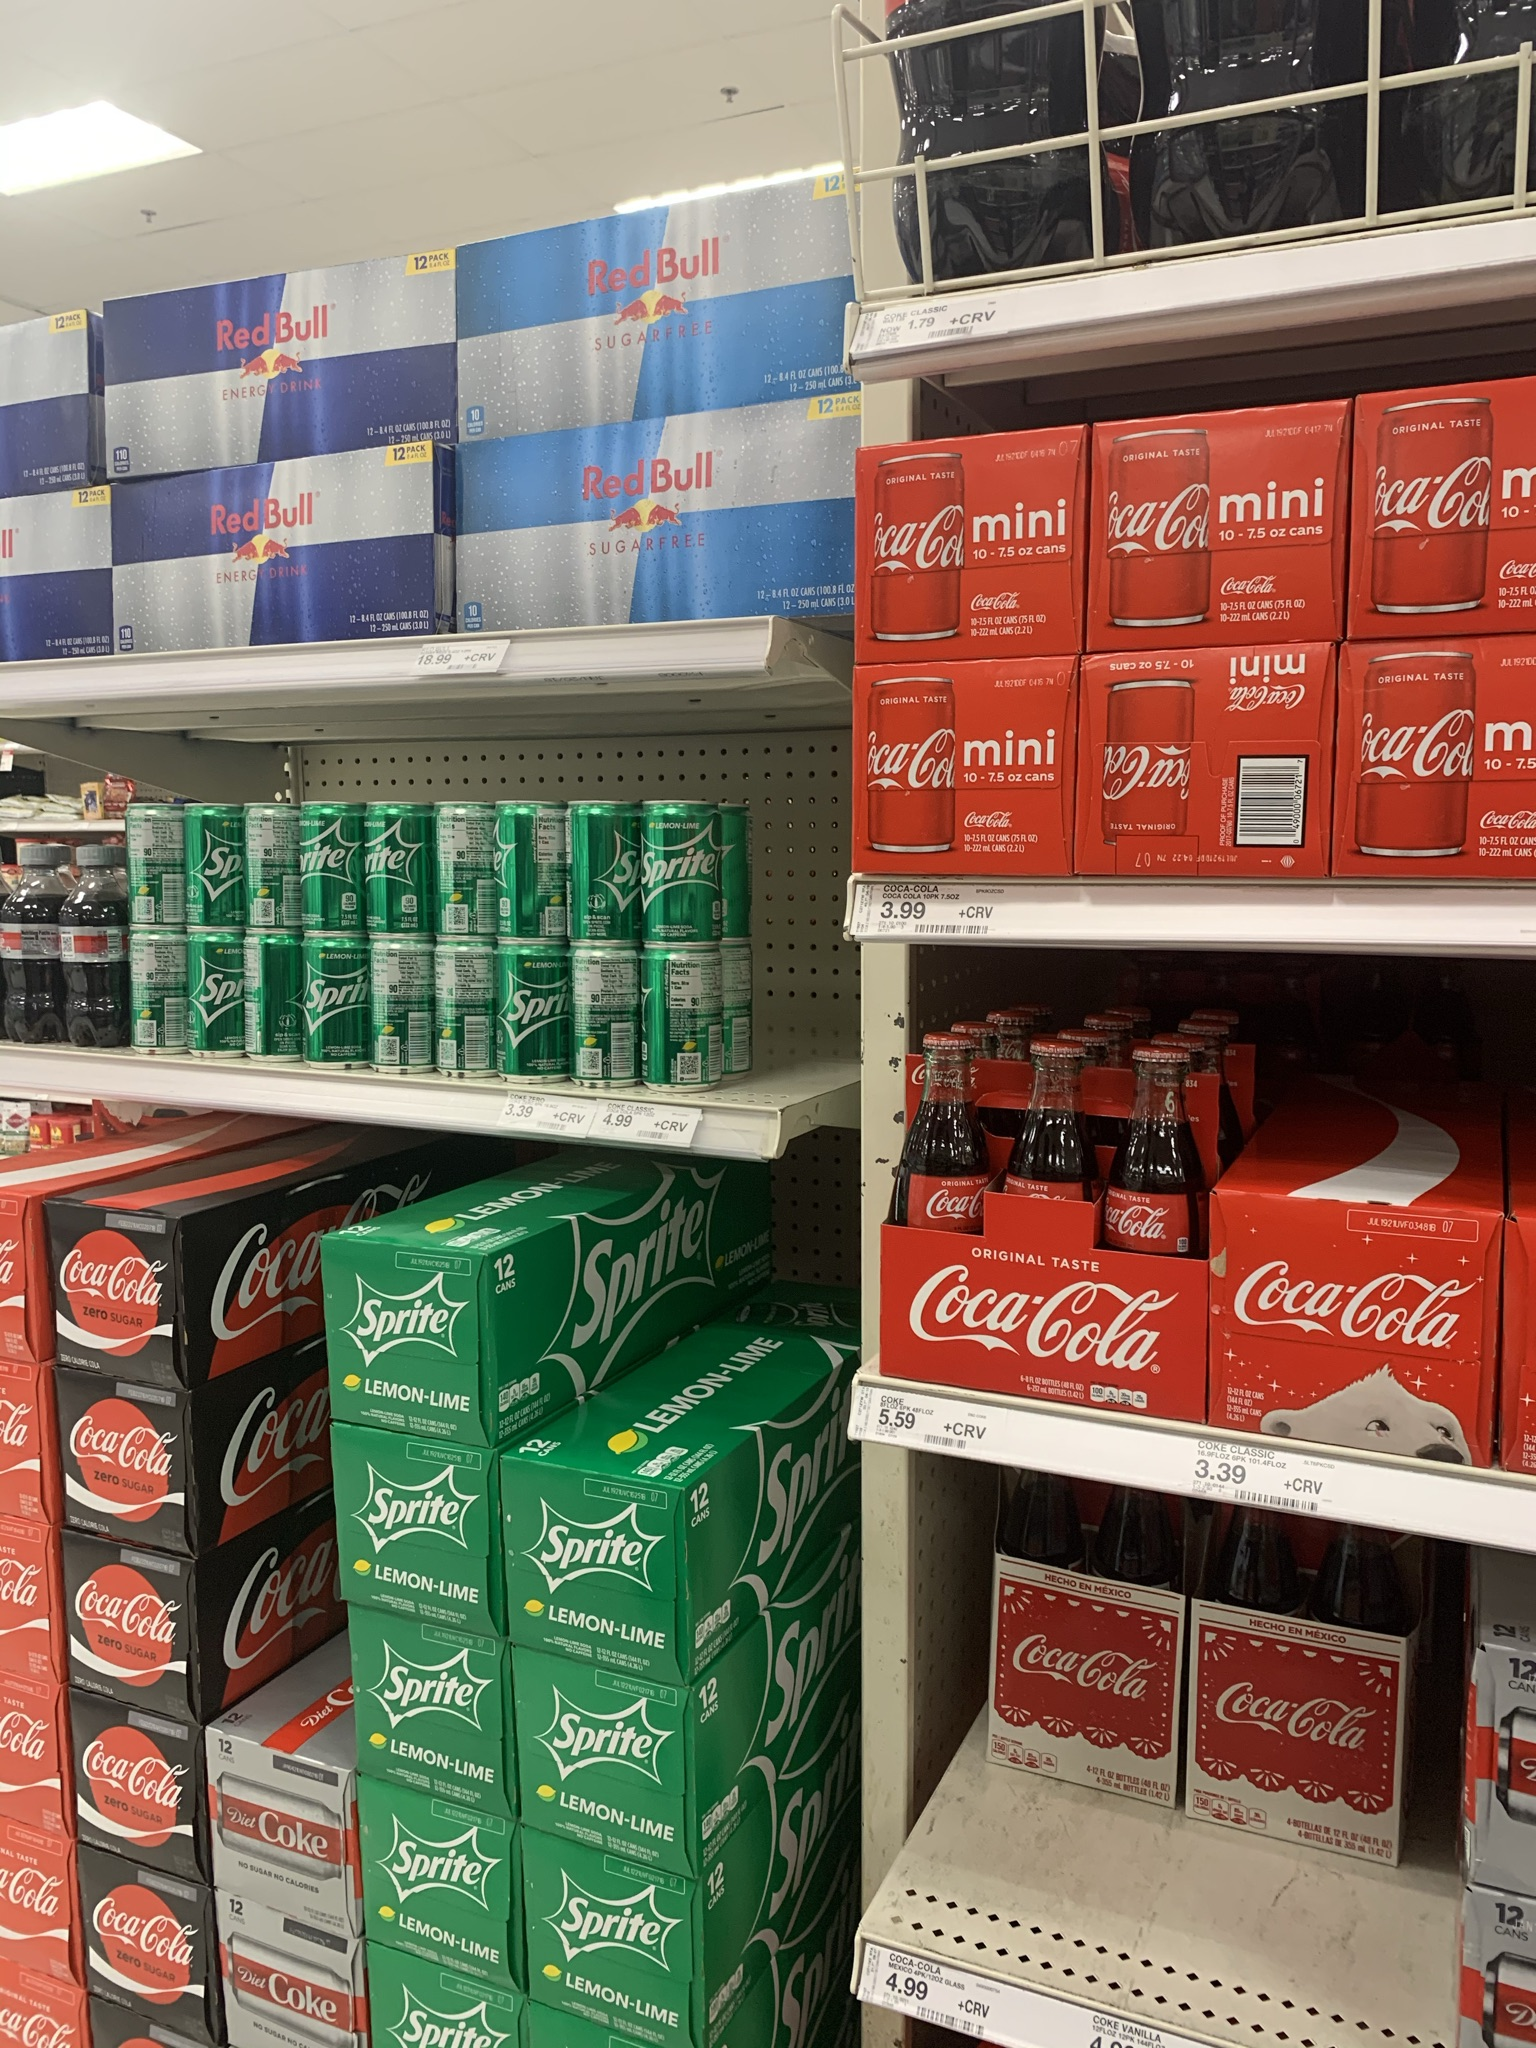coke soda: (904, 989, 1176, 1435), (1102, 426, 1326, 911), (65, 1221, 184, 2045), (1354, 398, 1518, 861), (1238, 1155, 1492, 1424), (215, 1734, 369, 2048)
redbull soda: (484, 434, 879, 624), (457, 244, 871, 405), (89, 293, 452, 464), (115, 489, 457, 640)
sprite soda: (339, 1251, 697, 2024), (132, 810, 742, 1064), (862, 455, 1083, 926)
